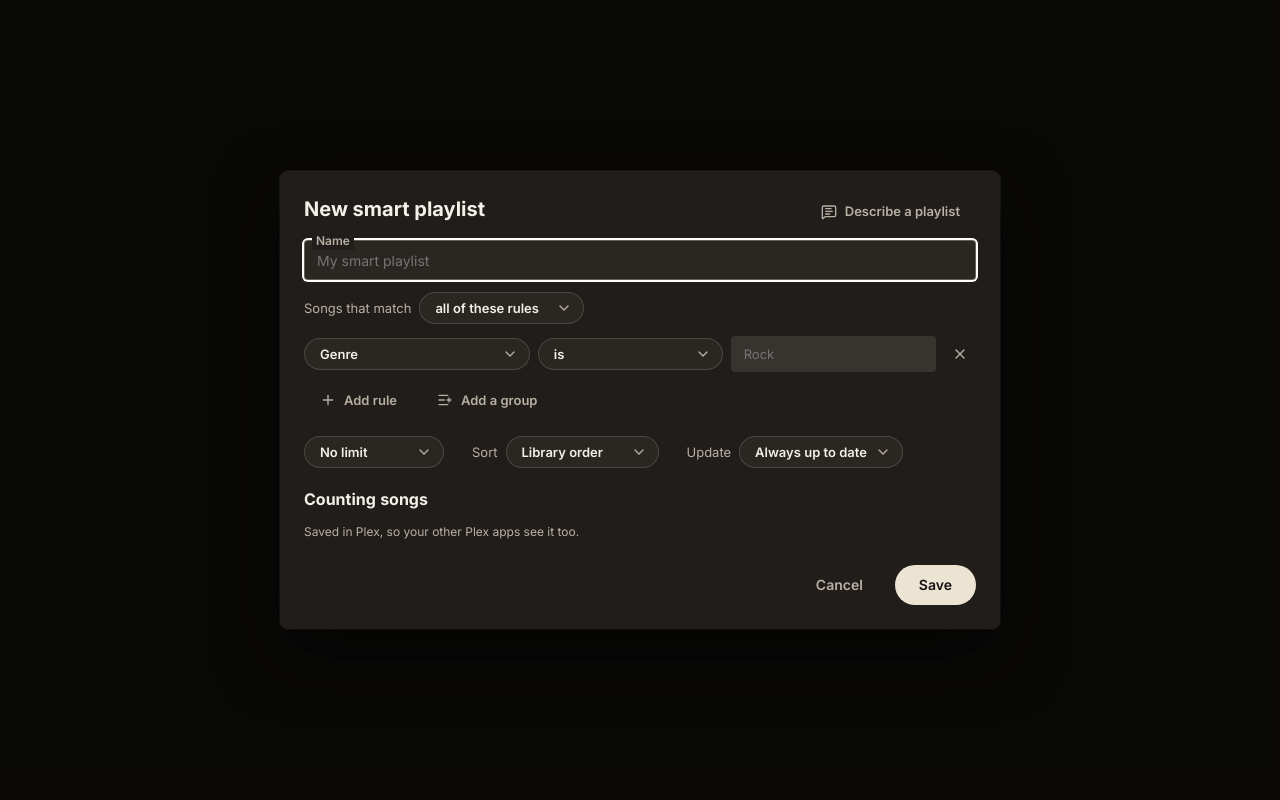
Test: new fields and ways to match › a playlist rule is filled on this computer and says when there's no such playlist
Select "Playlist" in the dropdown named "Rule 1 field" at (417, 354), box [304, 338, 530, 370]
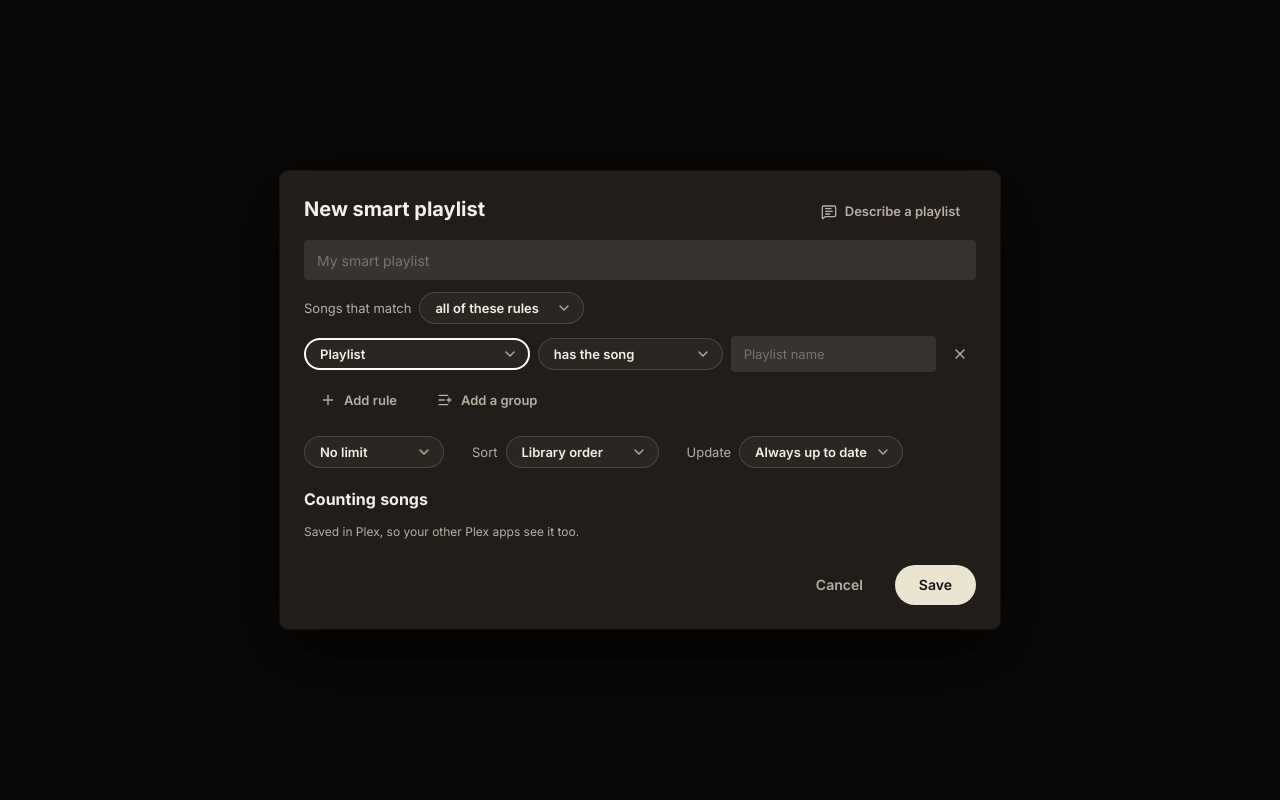
Now the dropdown named "Rule 1 comparison" shows "has the song", box [538, 338, 723, 370]
Type "No such list" into the field named "Rule 1 value" at (833, 354), box [731, 336, 936, 372]
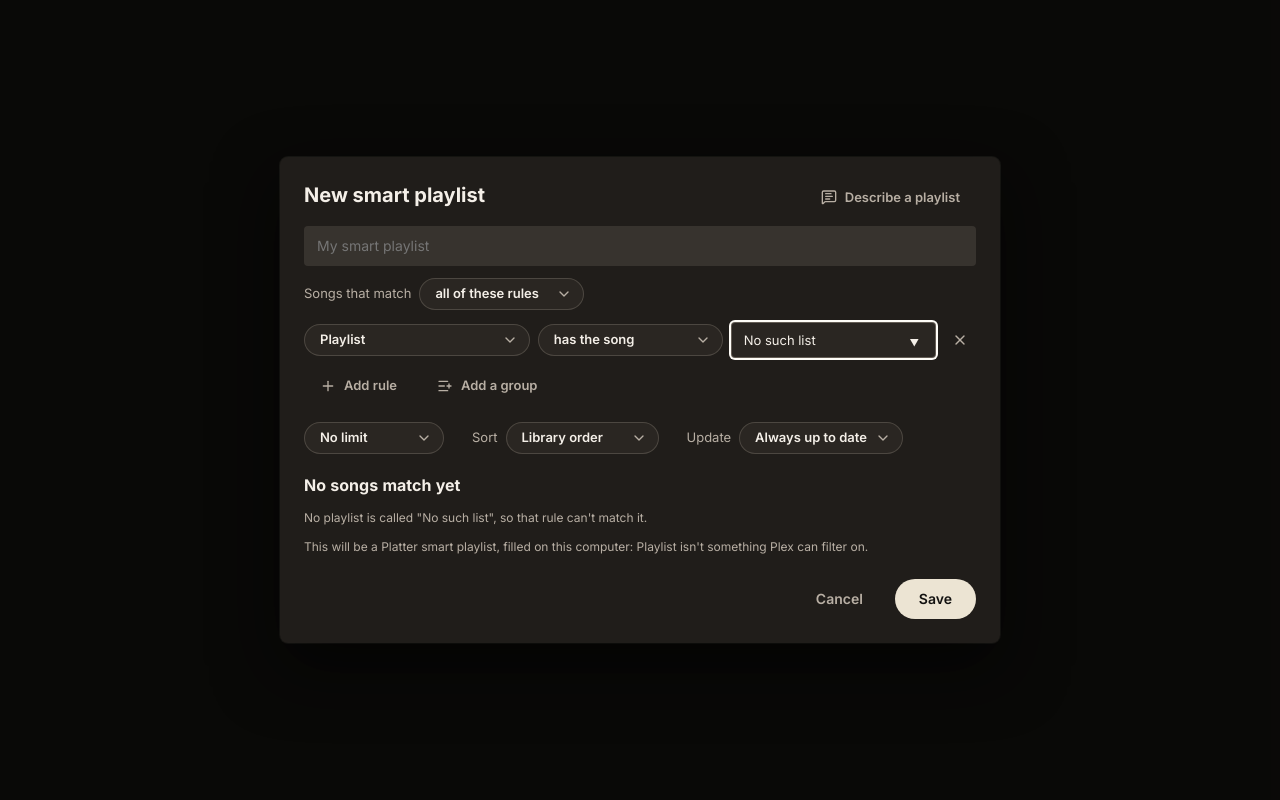
Now the text "No playlist is called \"No such list\", so that rule can't match it." is shown, box [304, 510, 647, 525]
Now the message with test id "smart-count" reads "No songs match yet", box [304, 474, 460, 494]
Now the text "Playlist isn't something Plex can filter on" is shown, box [304, 539, 868, 554]
Replace the text in the field named "Rule 1 value" with "Late Night Drive" at (833, 340), box [731, 322, 936, 358]
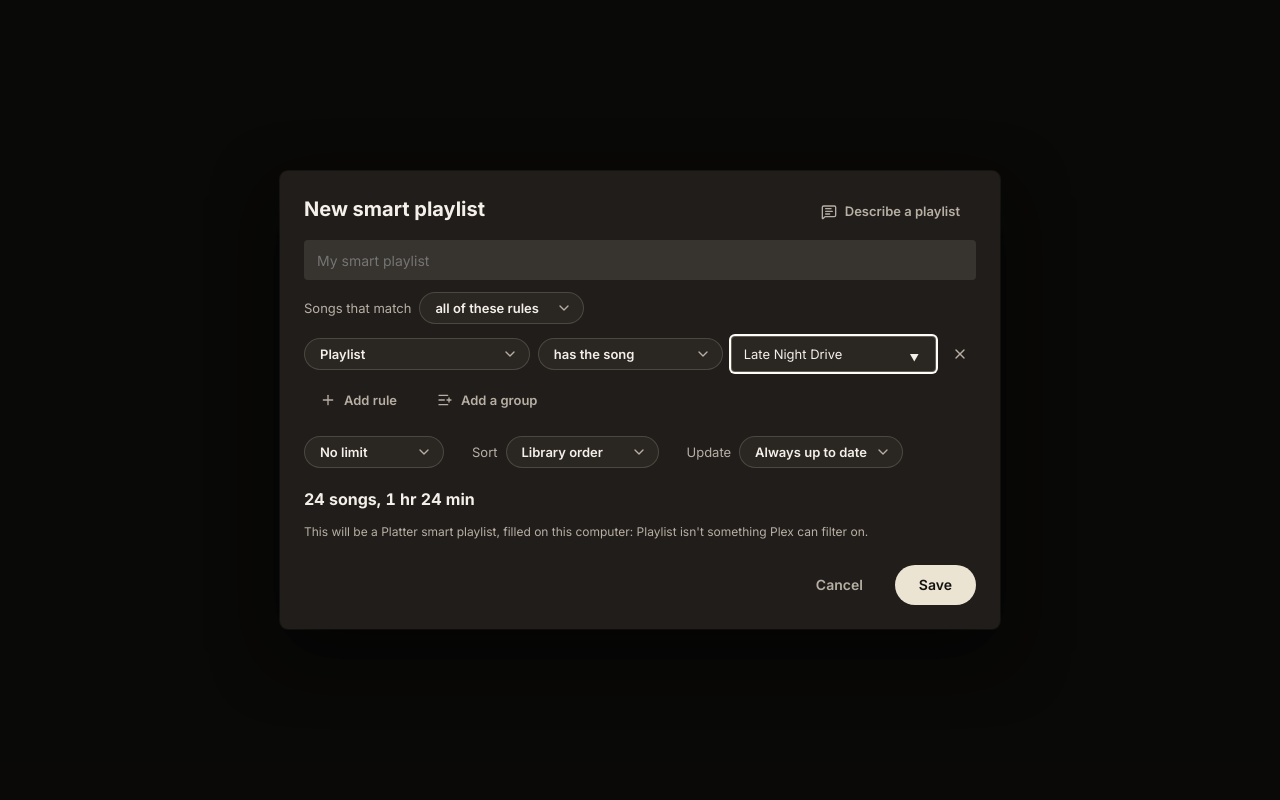
Now the text "No playlist is called" is gone
